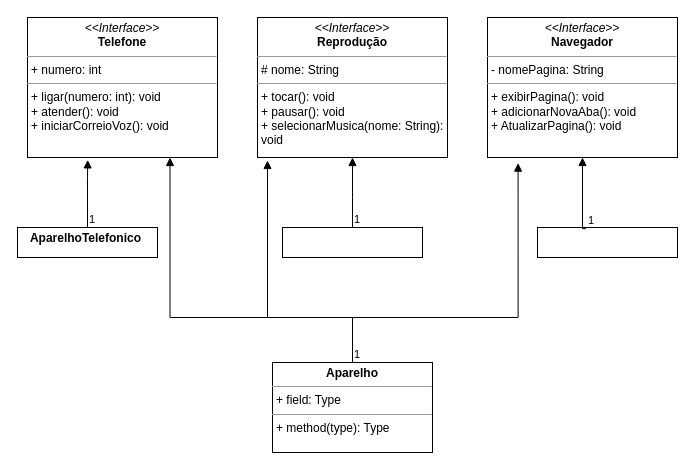
Some shapes in this 695 by 470 pixel diagram are drawn without their labels. The centre of each missing label's shape, as x and y in pixels:
NavegadorInternet: the point at 607,242
ReprodutorMusical: the point at 352,242
